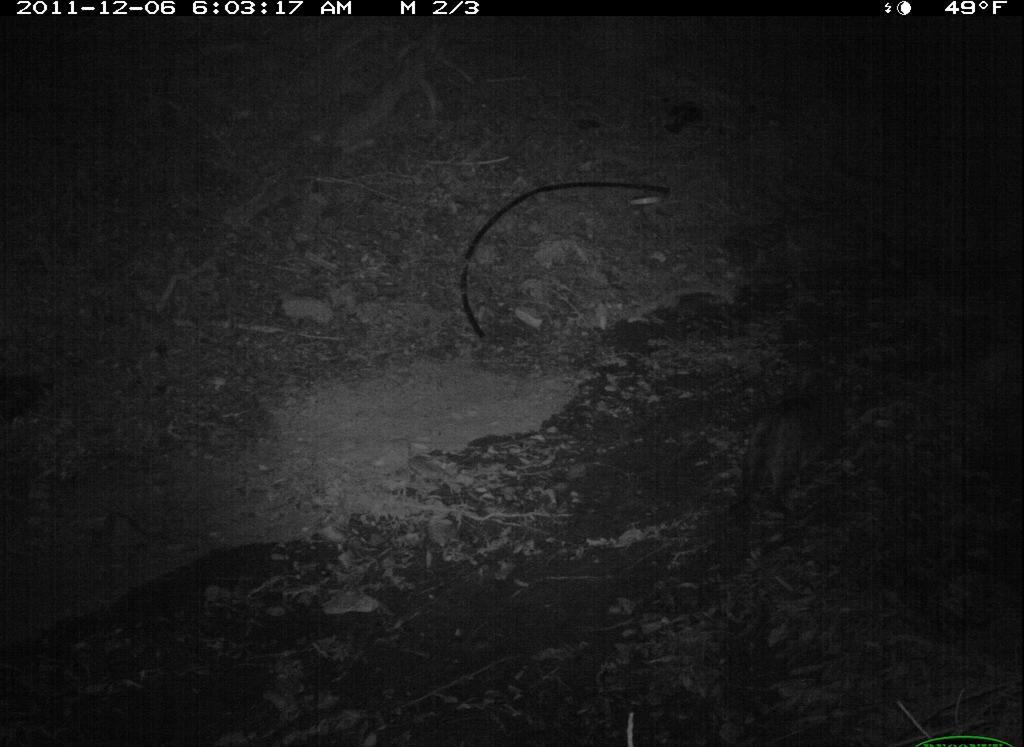cat: (707, 359, 870, 533)
